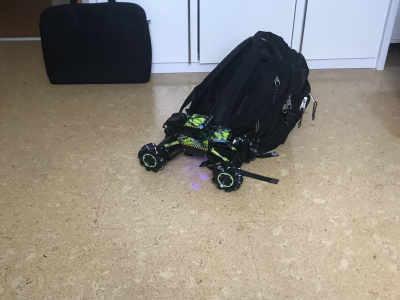remote control car: (137, 111, 260, 193)
